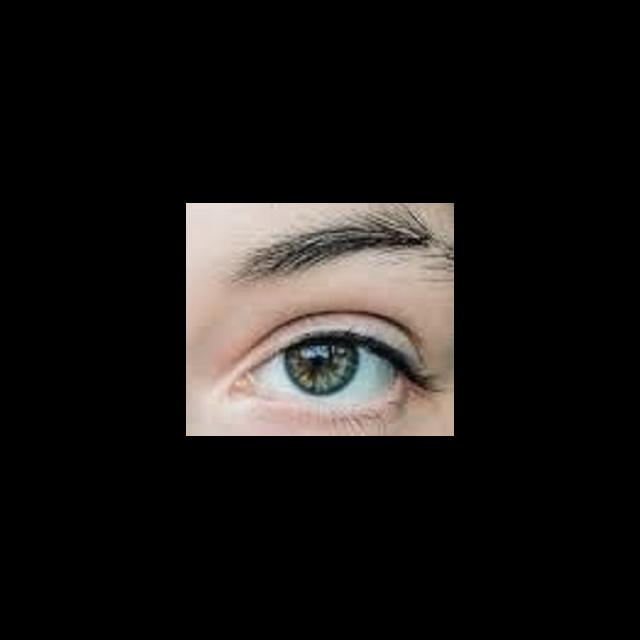eye: (256, 342, 397, 408)
iris: (285, 343, 358, 398)
